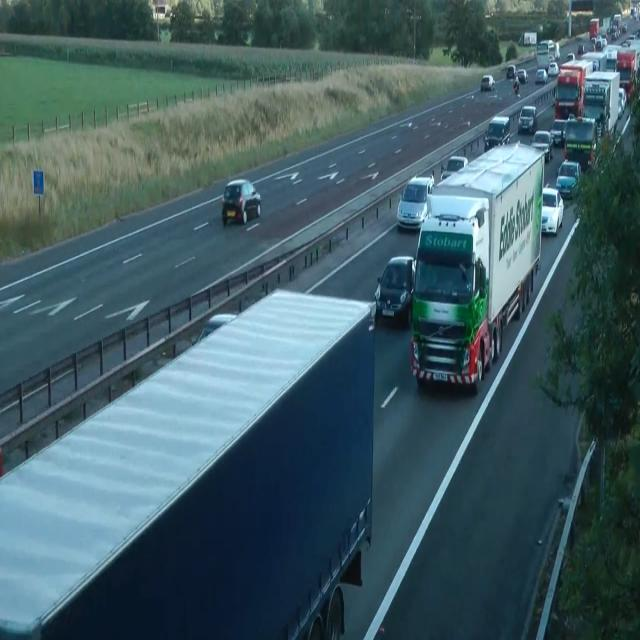bus: (374, 255, 416, 325), (396, 173, 434, 230), (221, 178, 261, 226), (194, 312, 238, 343), (540, 186, 564, 236), (555, 159, 583, 199), (483, 116, 511, 151), (530, 130, 554, 162), (440, 155, 468, 181), (517, 105, 537, 133), (549, 119, 567, 147), (618, 87, 626, 118), (480, 74, 495, 90), (534, 68, 548, 84), (595, 34, 607, 50), (517, 68, 528, 84), (506, 64, 517, 79), (548, 61, 559, 76), (566, 52, 575, 62), (484, 12, 492, 18)
car: (0, 286, 376, 638)
minibus: (410, 140, 544, 393), (582, 70, 620, 140), (554, 58, 594, 119), (562, 114, 598, 172), (517, 31, 537, 46)
